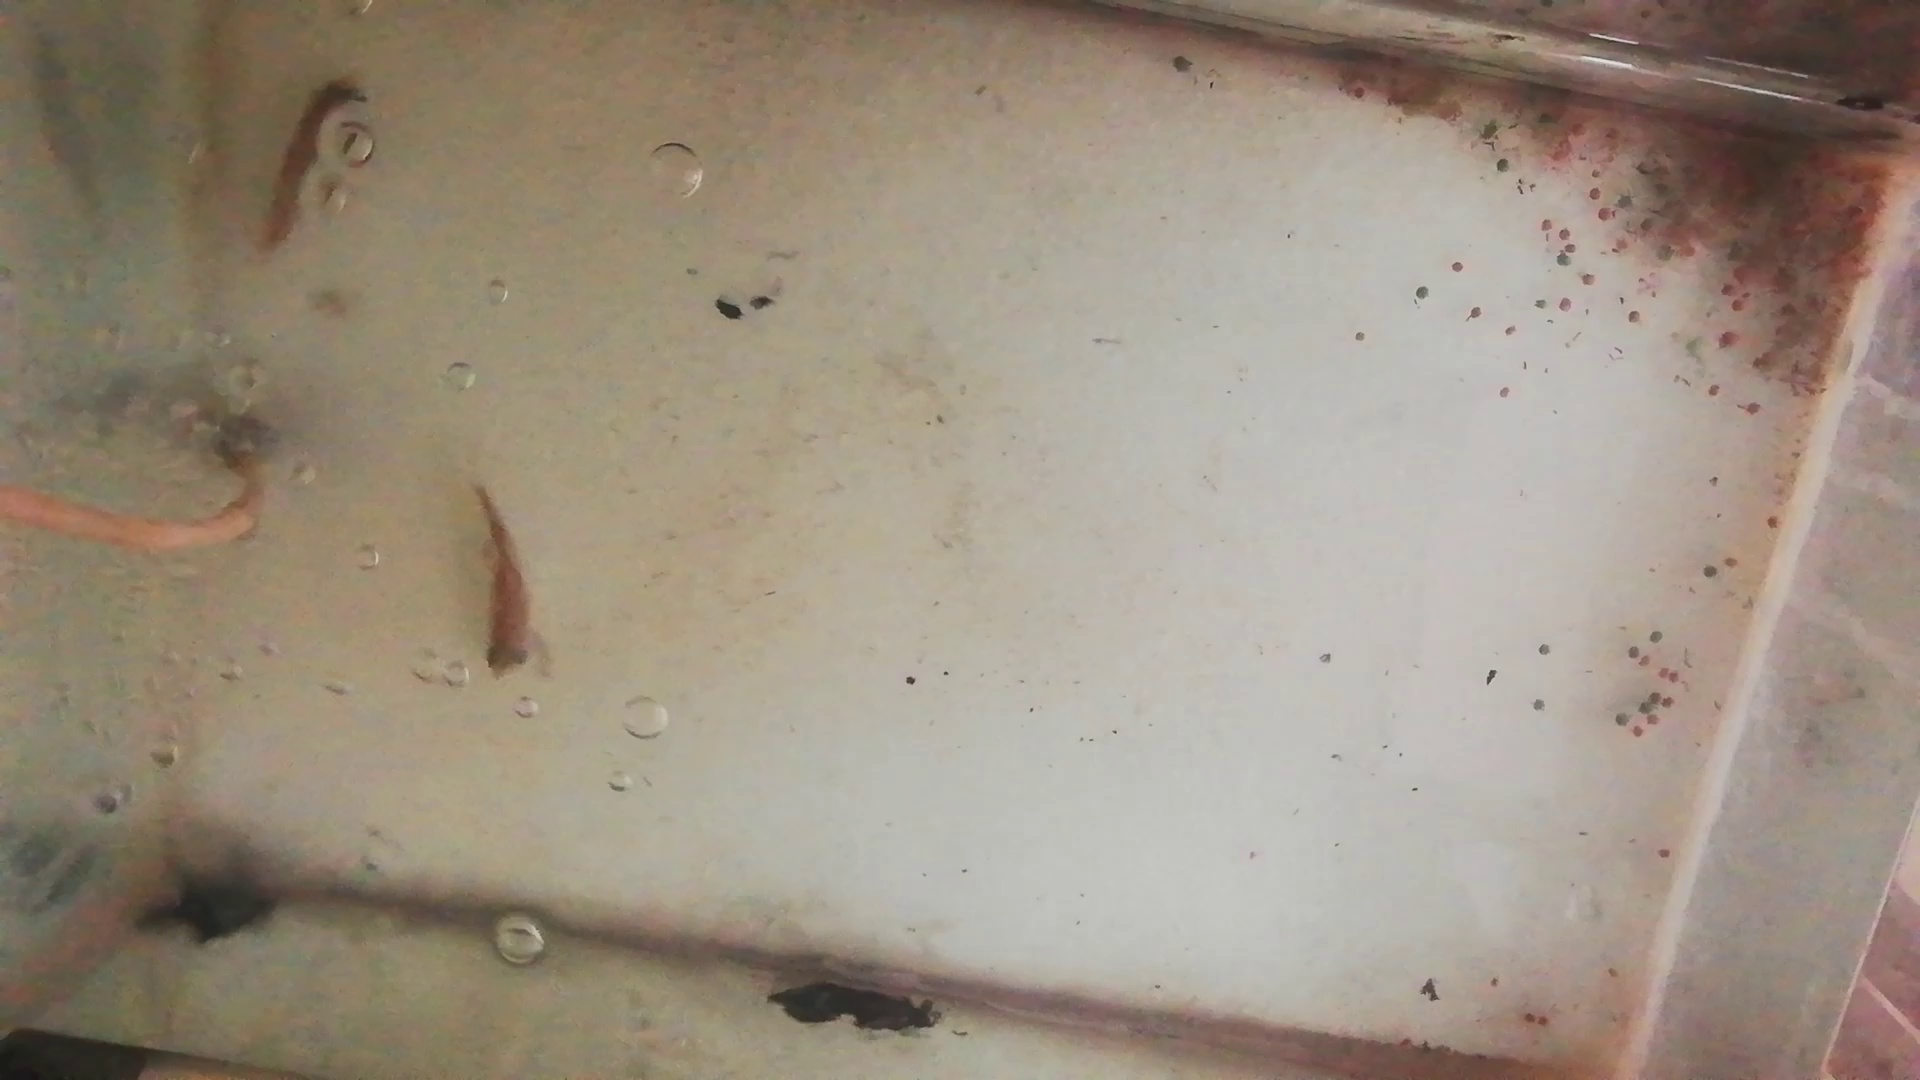fish: (269, 82, 355, 252), (473, 487, 534, 682)
